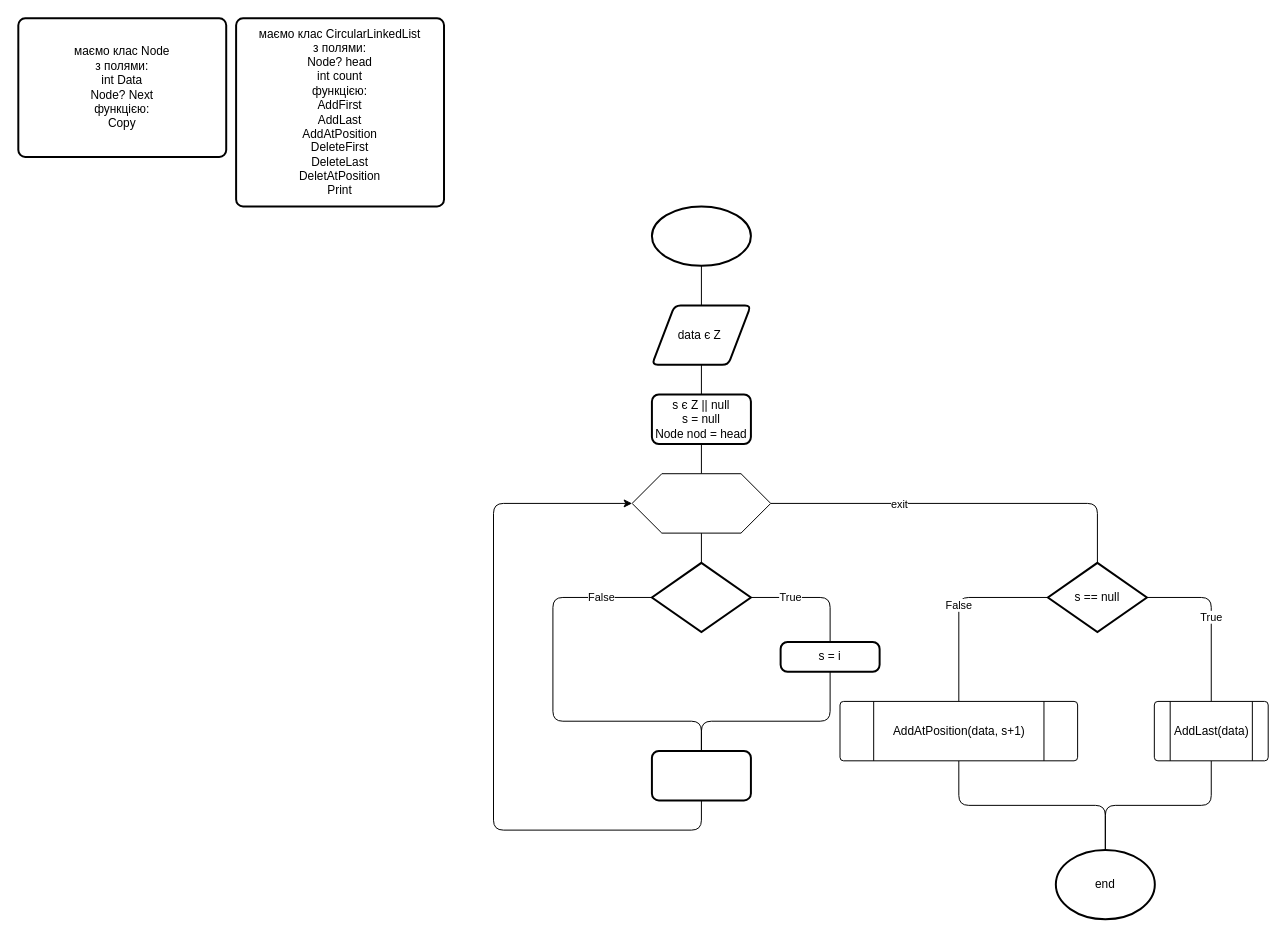
The diagram is 1285 pixels wide and 937 high, and some of its shapes have lost their labels. Here are the shapes that lost their labels. From the top down, the centre of each, then its label:
At pixel 700 235: "AddFunc".
At pixel 701 503: "i = 0; i < count; i++".
At pixel 700 597: "nod.Data < 0".
At pixel 700 775: "nod = nod.Next".
